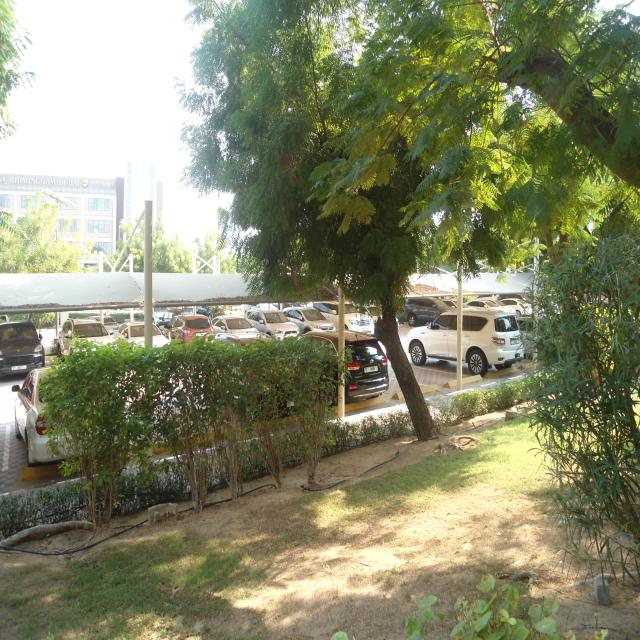bush: (26, 333, 353, 504), (330, 574, 599, 640)
car: (3, 359, 98, 472), (408, 300, 531, 378), (298, 320, 418, 396), (51, 317, 119, 365), (0, 322, 49, 383), (113, 312, 173, 358), (398, 290, 462, 328), (168, 302, 216, 352), (247, 300, 300, 344), (278, 297, 335, 334), (218, 308, 268, 348), (316, 298, 370, 330), (462, 291, 507, 327), (501, 290, 538, 314)
carShed: (0, 256, 567, 383)
tree-chair-bench-table-wall: (332, 0, 640, 640), (180, 0, 485, 453), (505, 186, 640, 640)
